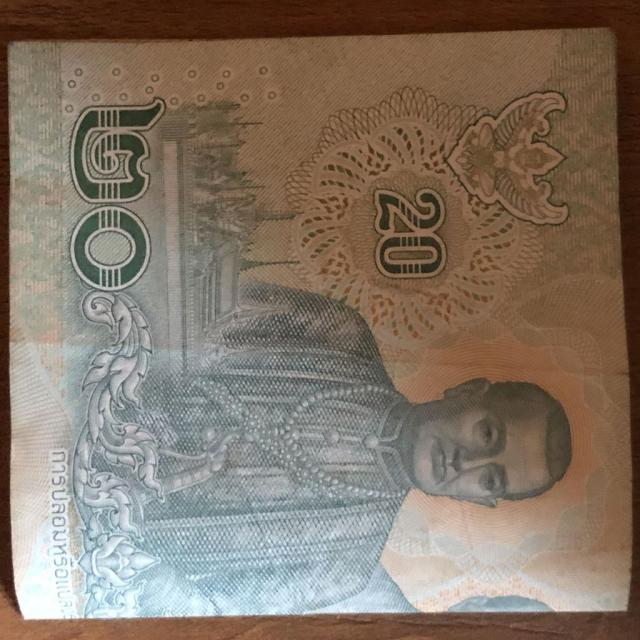THAI20: (7, 29, 638, 626)
